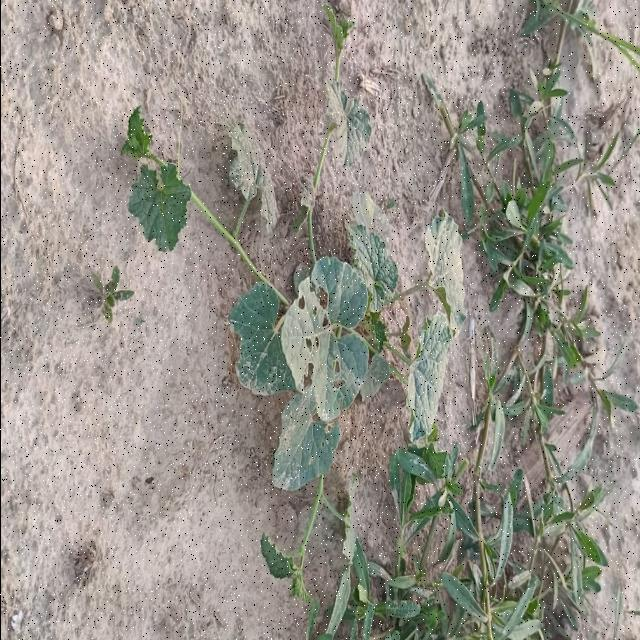plant: (122, 109, 464, 600), (310, 78, 369, 191)
